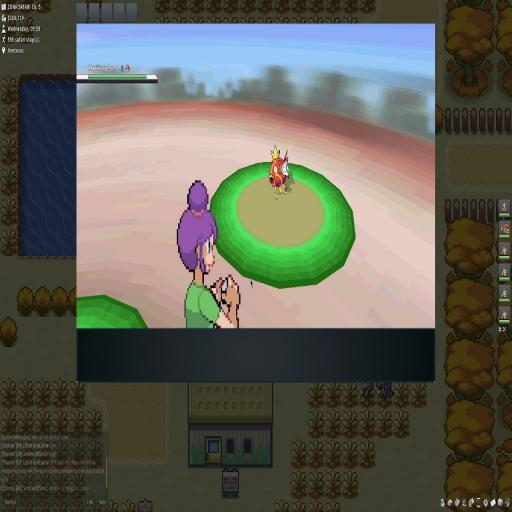MAGIKARP: (268, 144, 290, 199)
